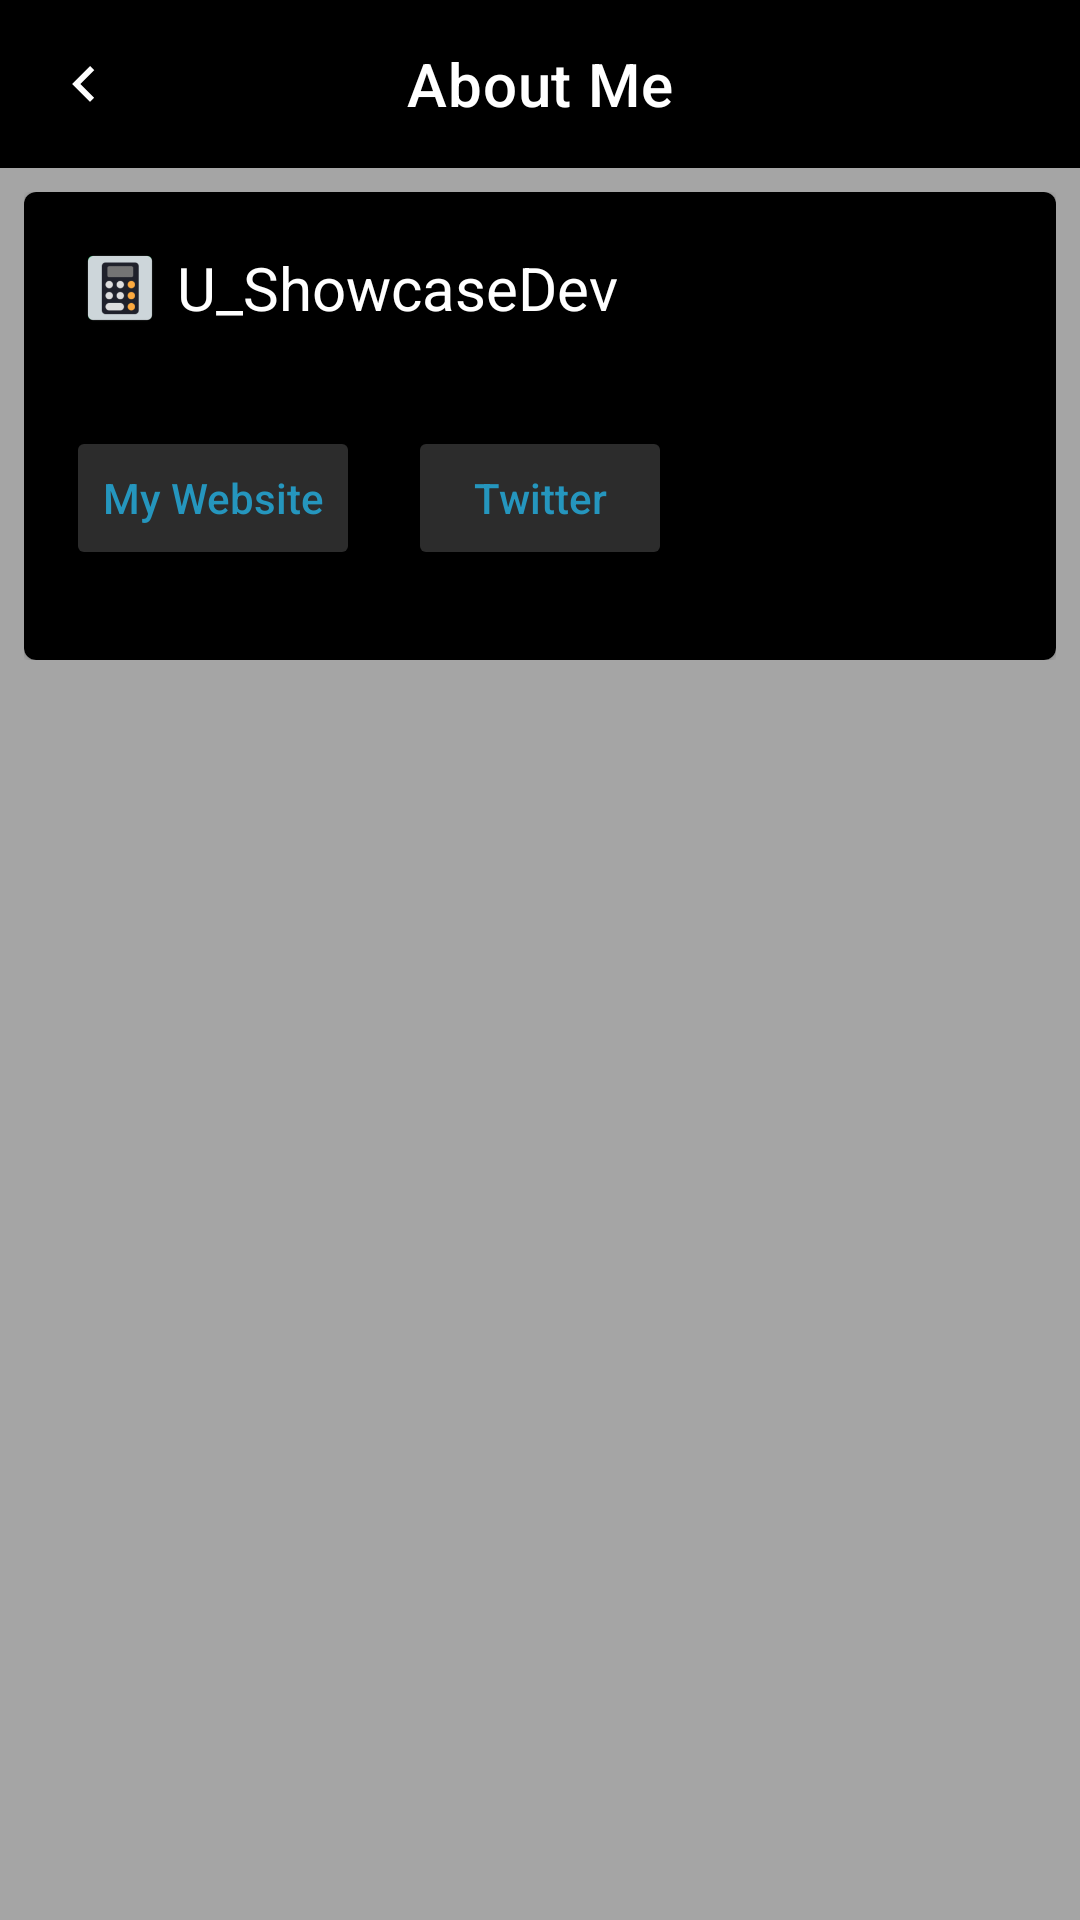

Locate icon controls on the screen. Image size 1080×1920, boxes as (x1=x1, y1=y1, x2=x2, y2=y2).
back: (x1=72, y1=66, x2=94, y2=102)
